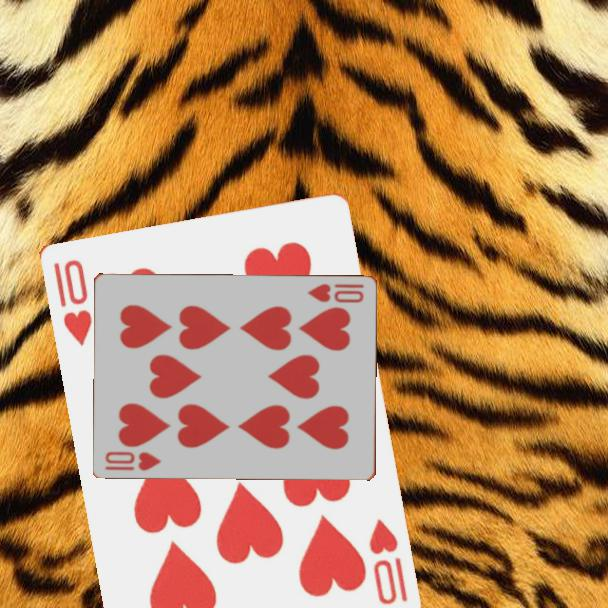h10: (364, 515, 410, 607), (50, 256, 95, 348), (304, 280, 367, 306), (102, 448, 164, 473)
